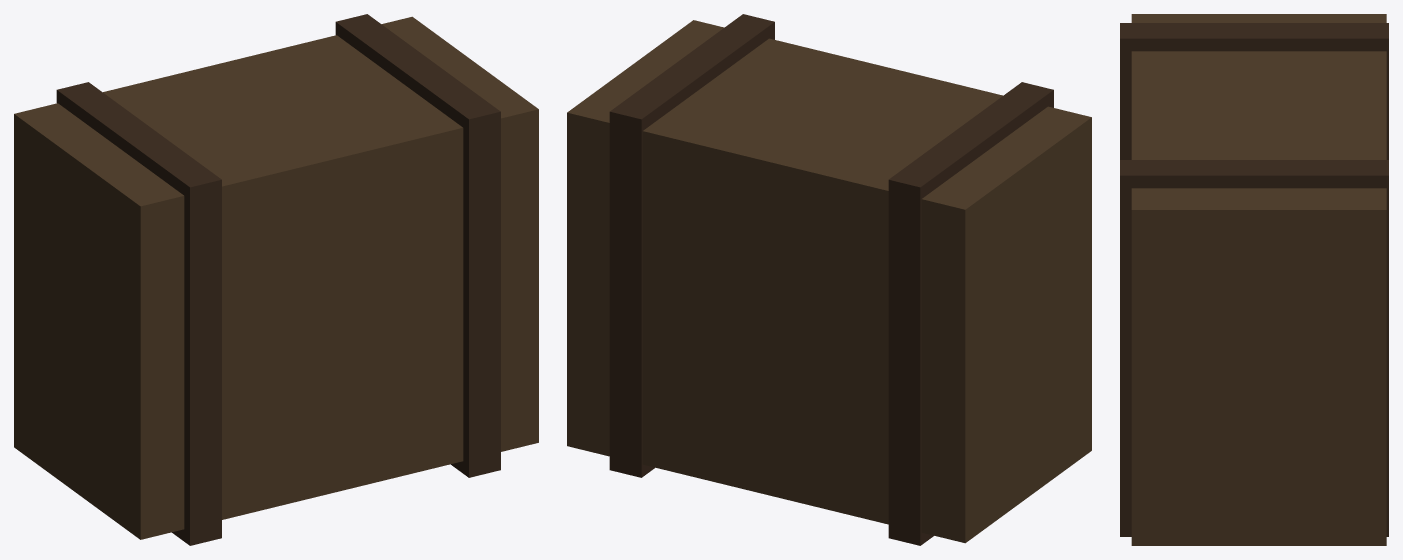
File: wooden_crate.obj
The picture shows the model from 3 angles, left to right: view 1: azimuth 30°, elevation 25°; view 2: azimuth 150°, elevation 25°; view 3: azimuth 270°, elevation 25°; orthographic projection.
Bounding box in the file's own units: 1 × 0.86 × 0.58.
